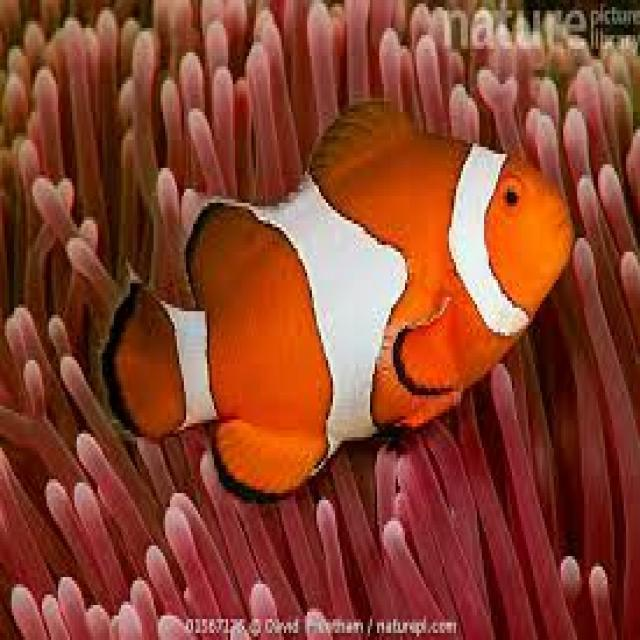ClownFish: (103, 105, 572, 498)
